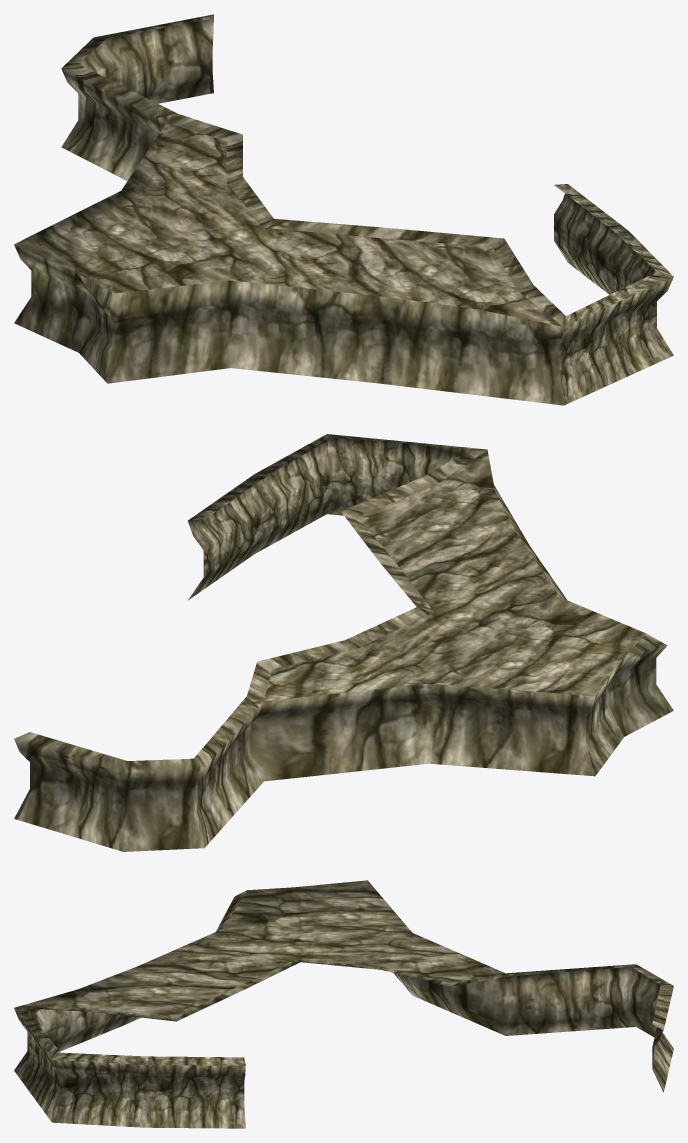
File: CB_NEWPLAYSURFACE_CB_PLAYSURFACE101.fbx
The picture shows the model from 3 angles, top to bottom: view 1: azimuth 30°, elevation 25°; view 2: azimuth 150°, elevation 25°; view 3: azimuth 270°, elevation 25°; orthographic projection. The views are drawn at different scales.
Parts seen in each view (by area): view 1: CB_NEWPLAYSURFACE_CB_PLAYSURFACE101; view 2: CB_NEWPLAYSURFACE_CB_PLAYSURFACE101; view 3: CB_NEWPLAYSURFACE_CB_PLAYSURFACE101.
Part boxes in pixels (left/top/right/bottom): CB_NEWPLAYSURFACE_CB_PLAYSURFACE101: left=14, top=14, right=673, bottom=405; CB_NEWPLAYSURFACE_CB_PLAYSURFACE101: left=14, top=434, right=673, bottom=851; CB_NEWPLAYSURFACE_CB_PLAYSURFACE101: left=14, top=880, right=673, bottom=1128.
Size of the model in its own units: 190262 by 31307 by 285908.
2 materials, 2 textured.
